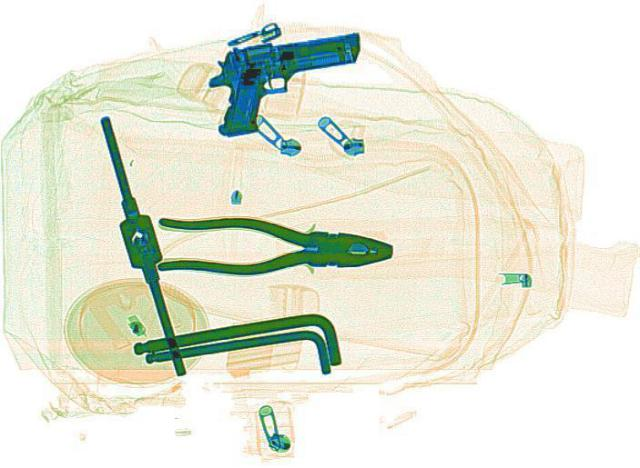Gun: (190, 28, 382, 137)
Pliers: (150, 210, 394, 280)
